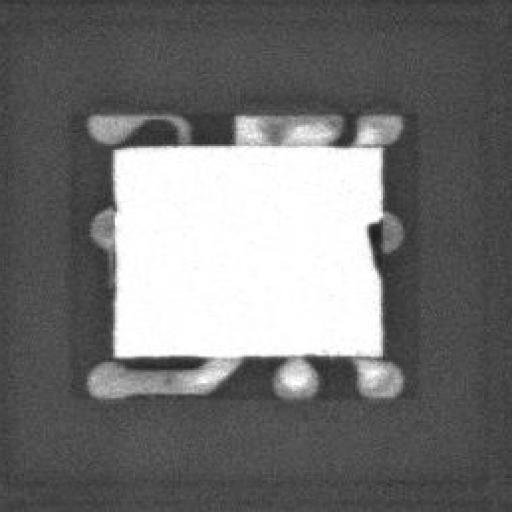DIE_BROKEN: (363, 212, 381, 281)
